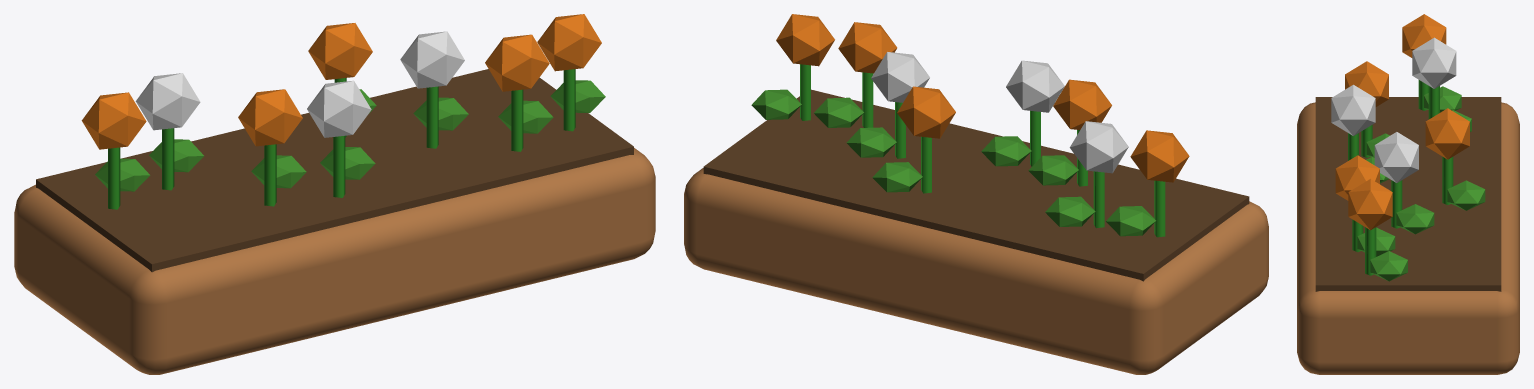
The model's file is flower_bed_2_6.glb.
The picture shows the model from 3 angles, left to right: view 1: azimuth 30°, elevation 25°; view 2: azimuth 150°, elevation 25°; view 3: azimuth 270°, elevation 25°; orthographic projection. The views are drawn at different scales.
Parts seen in each view (by area): view 1: FlowerBed; view 2: FlowerBed; view 3: FlowerBed.
Boxes of the visible parts, <box> form: FlowerBed: <box>14,14,655,374</box>; FlowerBed: <box>684,14,1268,374</box>; FlowerBed: <box>1297,14,1519,374</box>.
Size of the model in its own units: 2.6 by 1.06 by 1.2.
